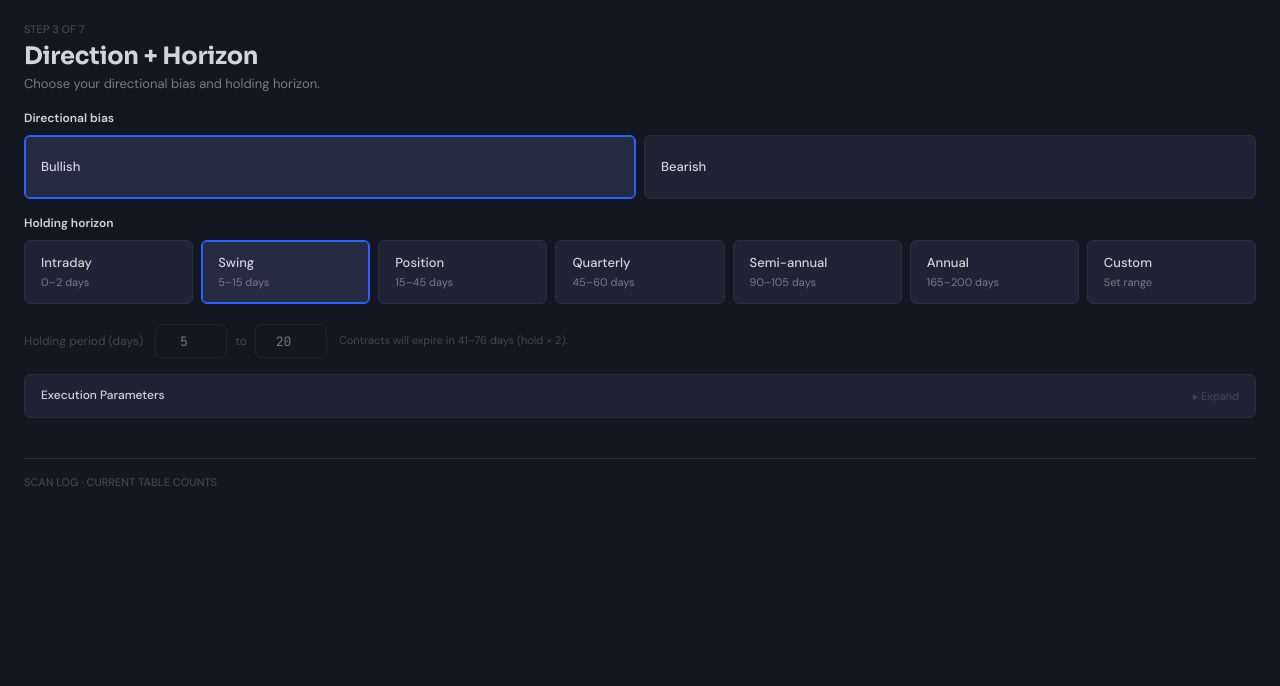
Step 3 — Stop percentage unit scaling and bounds (Finding C7, #385) › clamps out-of-bounds inputs on blur (150 -> 100/1.0, 0.1 -> 0.5/0.005)
The width and height of the screenshot is (1280, 686).
Click the text "Execution Parameters" at (103, 396), box x1=41 y1=387 x2=165 y2=405
(page scrolled)
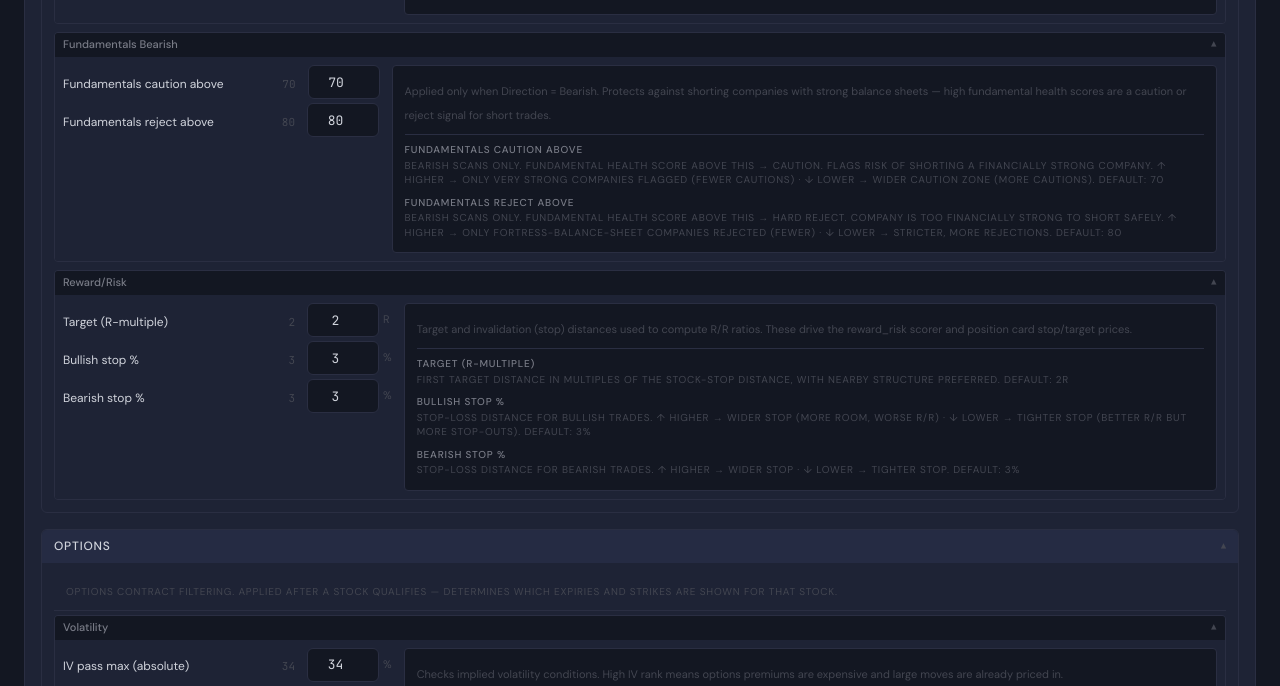
Replace the text in the number field named "Bullish stop %" with "150" at (343, 358), box x1=307 y1=341 x2=379 y2=375
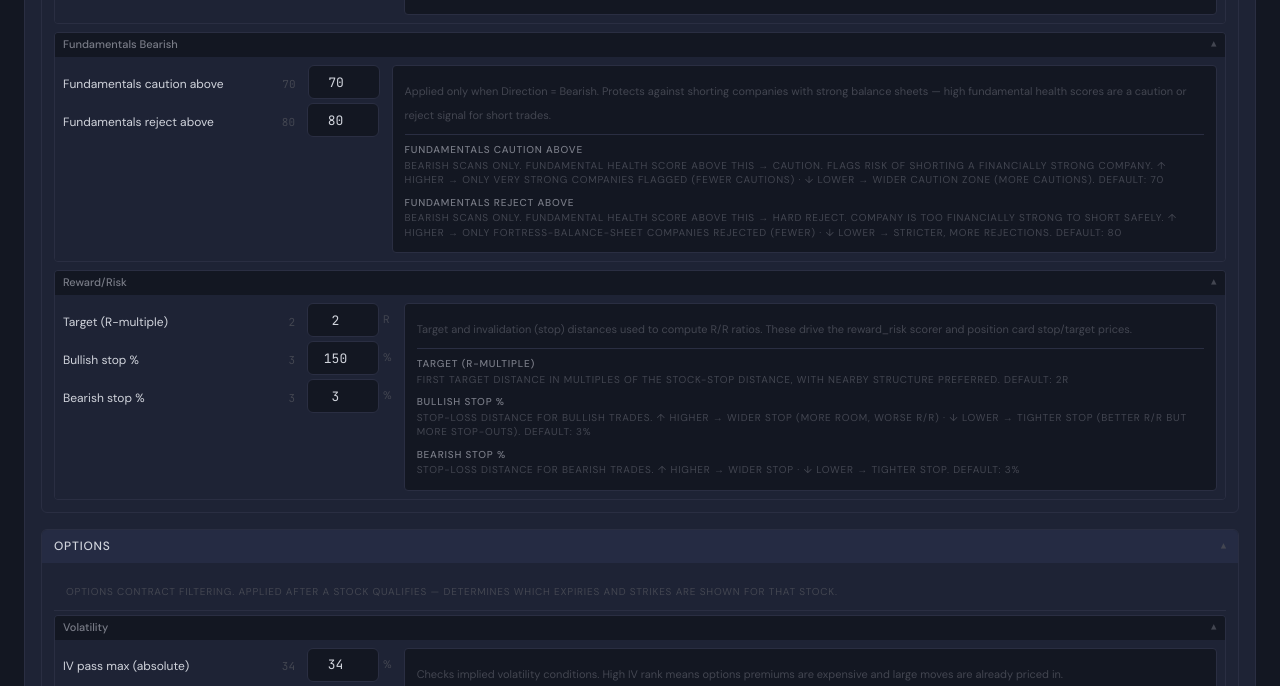
Leave the number field named "Bullish stop %", box x1=307 y1=341 x2=379 y2=375
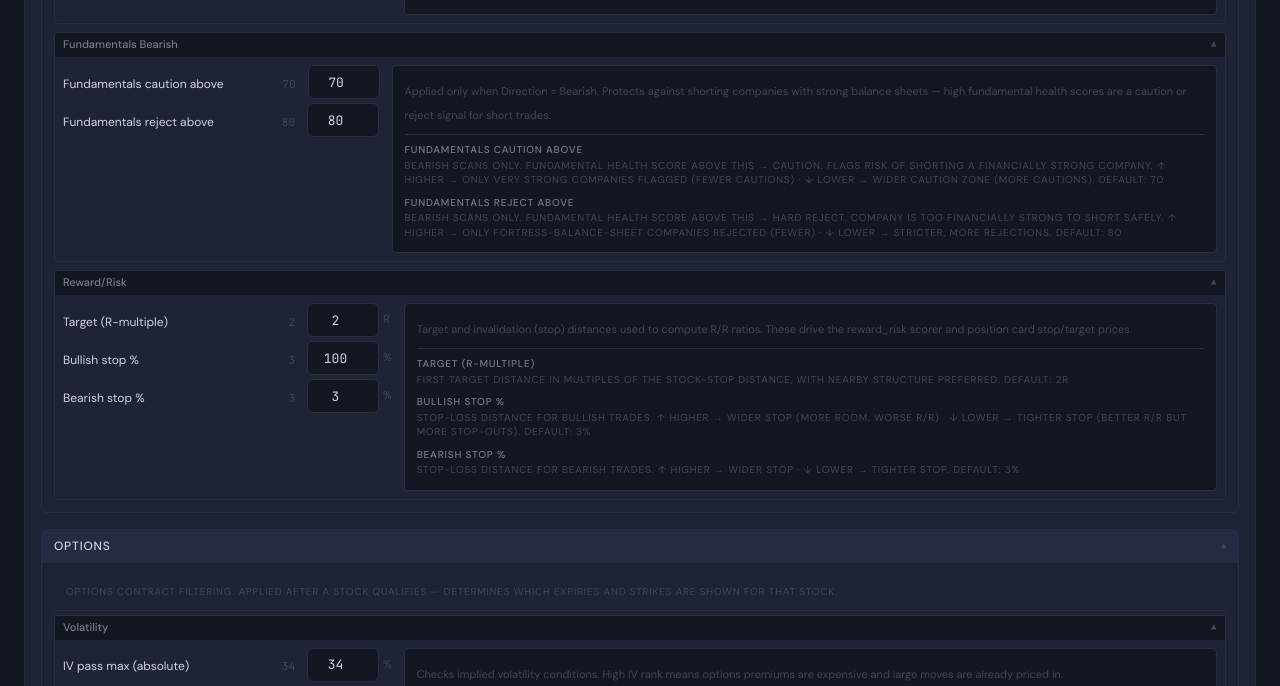
Replace the text in the number field named "Bullish stop %" with "0.1" at (343, 358), box x1=307 y1=341 x2=379 y2=375
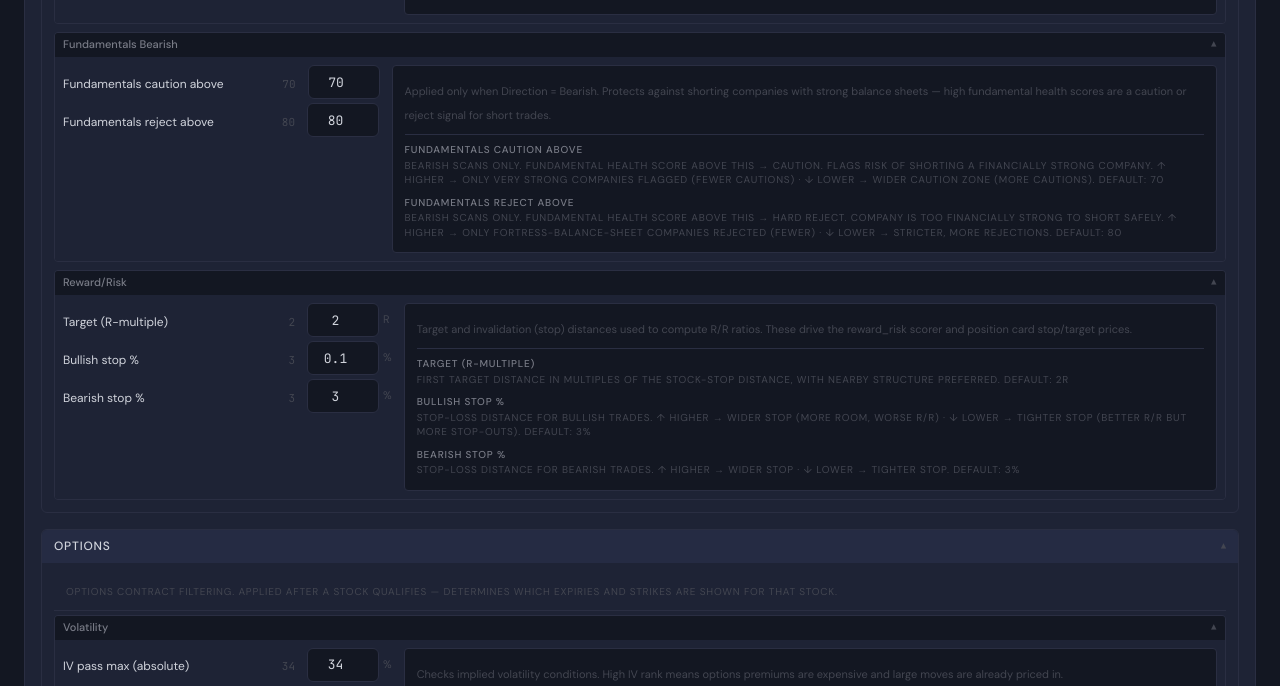
Leave the number field named "Bullish stop %", box x1=307 y1=341 x2=379 y2=375
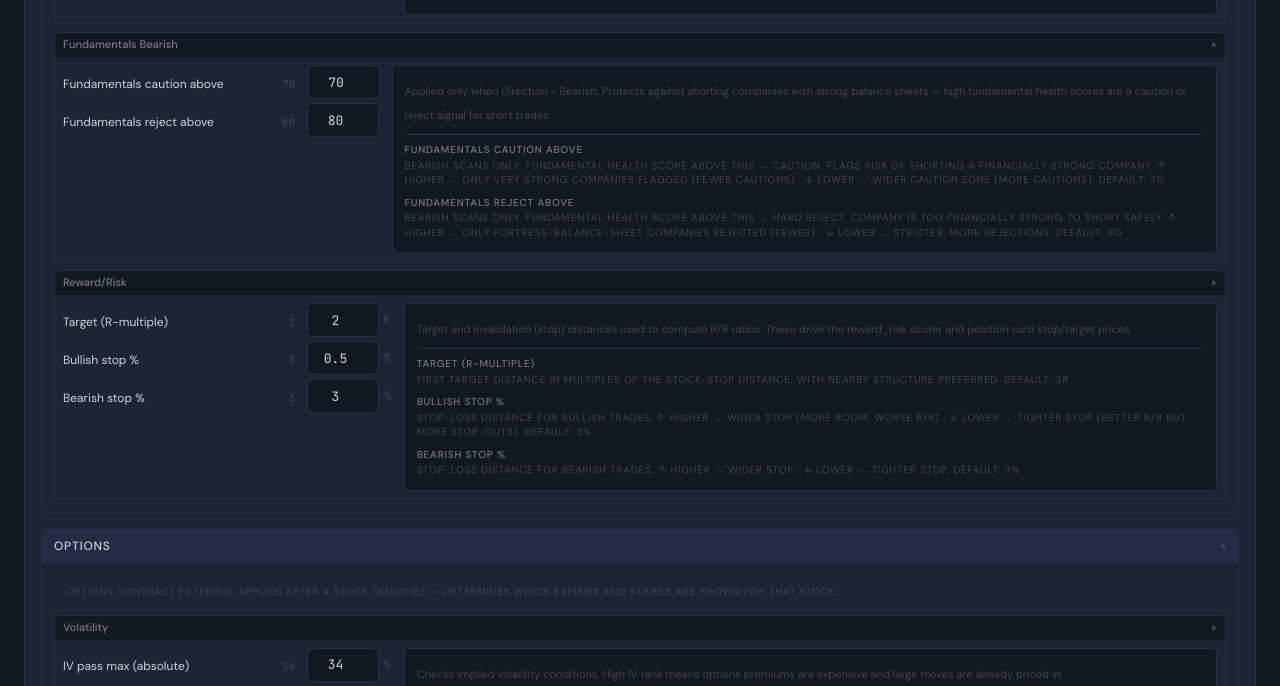
Expected: the number field named "Bullish stop %" holds "0.5", x1=307 y1=341 x2=379 y2=375
